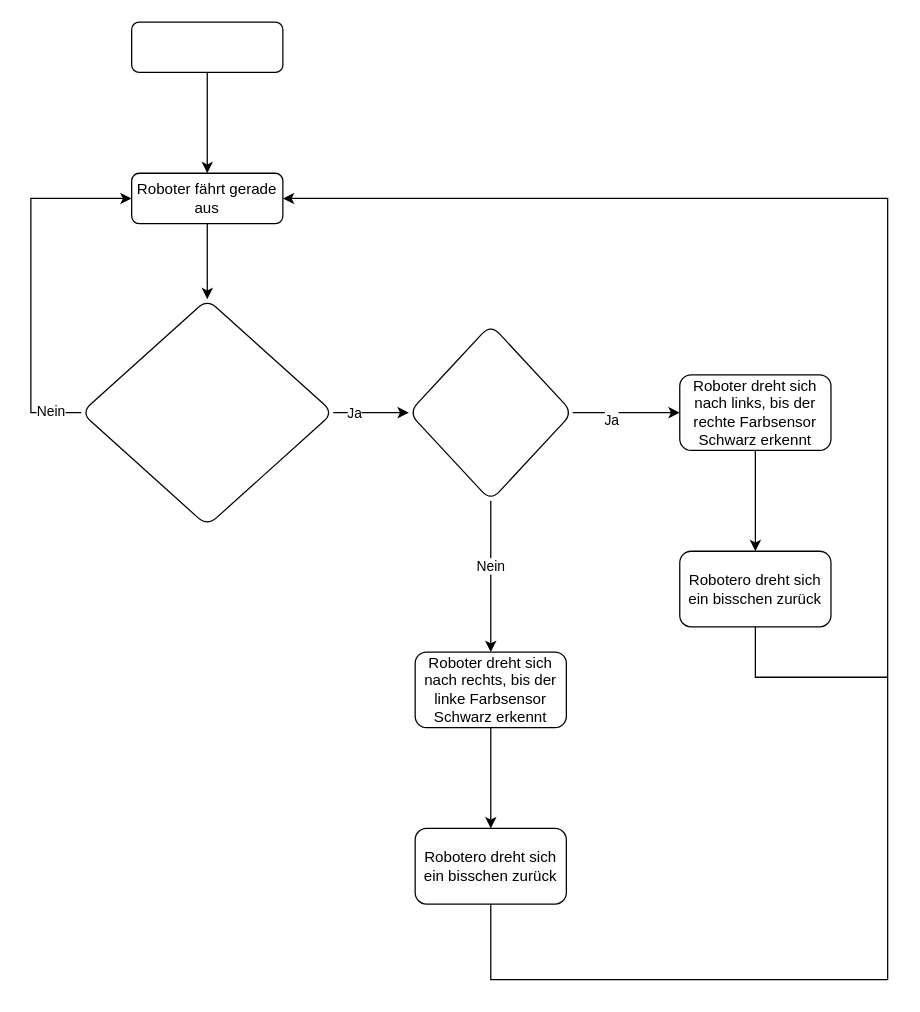
Some shapes in this 920 by 1012 pixel diagram are drawn without their labels. The centre of each missing label's shape, as x and y in pixels:
Ist es der linke Farbsensor?: (490,412)
Roboter fährt los: (206,46)
Wird die Farbe Schwarz vom Farbsensor erkannt?: (206,412)
